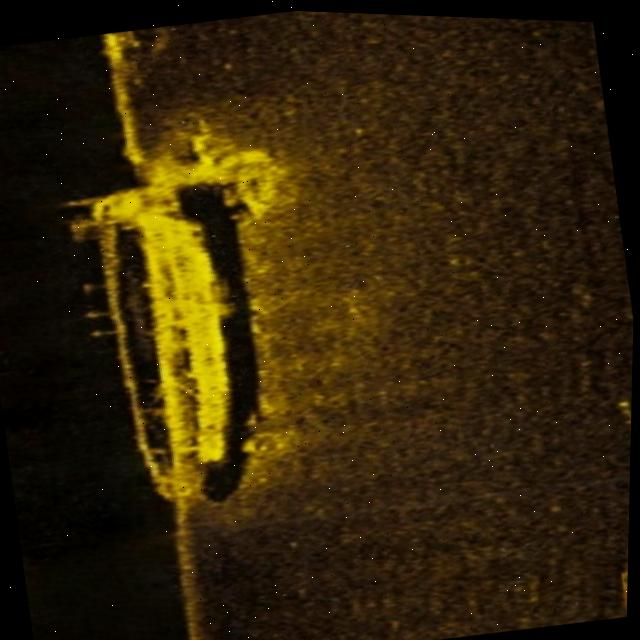shipwreck: (48, 171, 260, 517)
